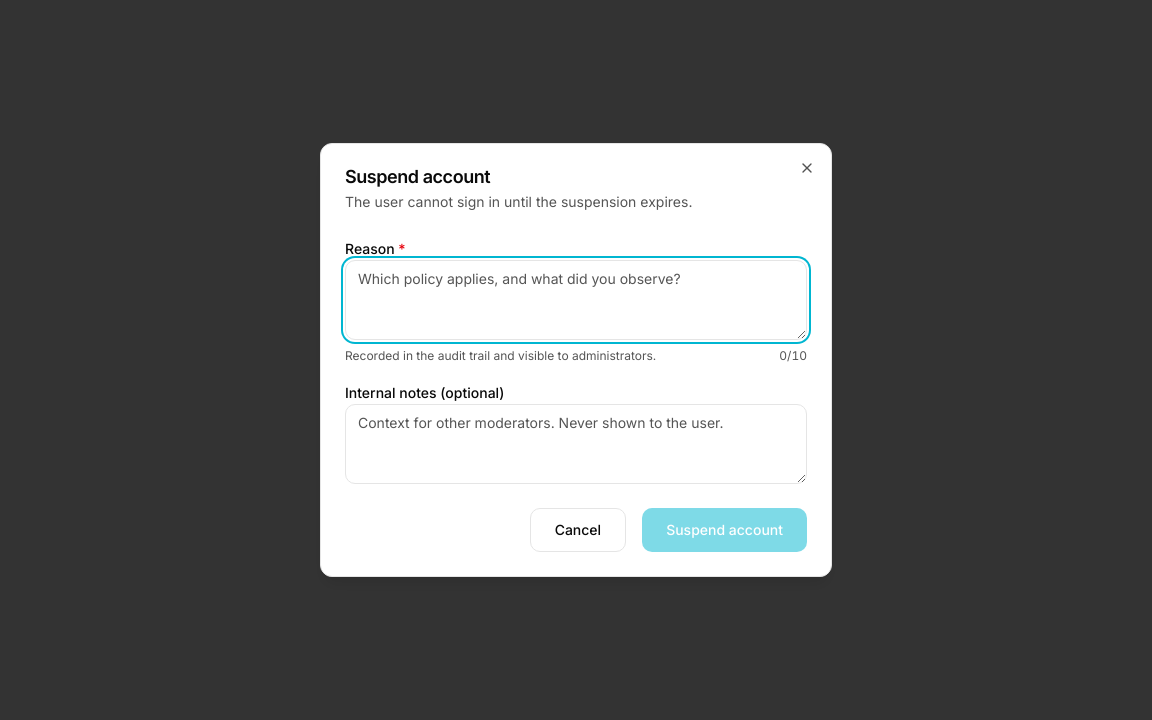
Test: ModerationActionDialog › raises an alert when a too-short reason loses focus
Type "no" into the text box labelled "Reason *". click: point(576, 300)
box: left=345, top=260, right=807, bottom=340
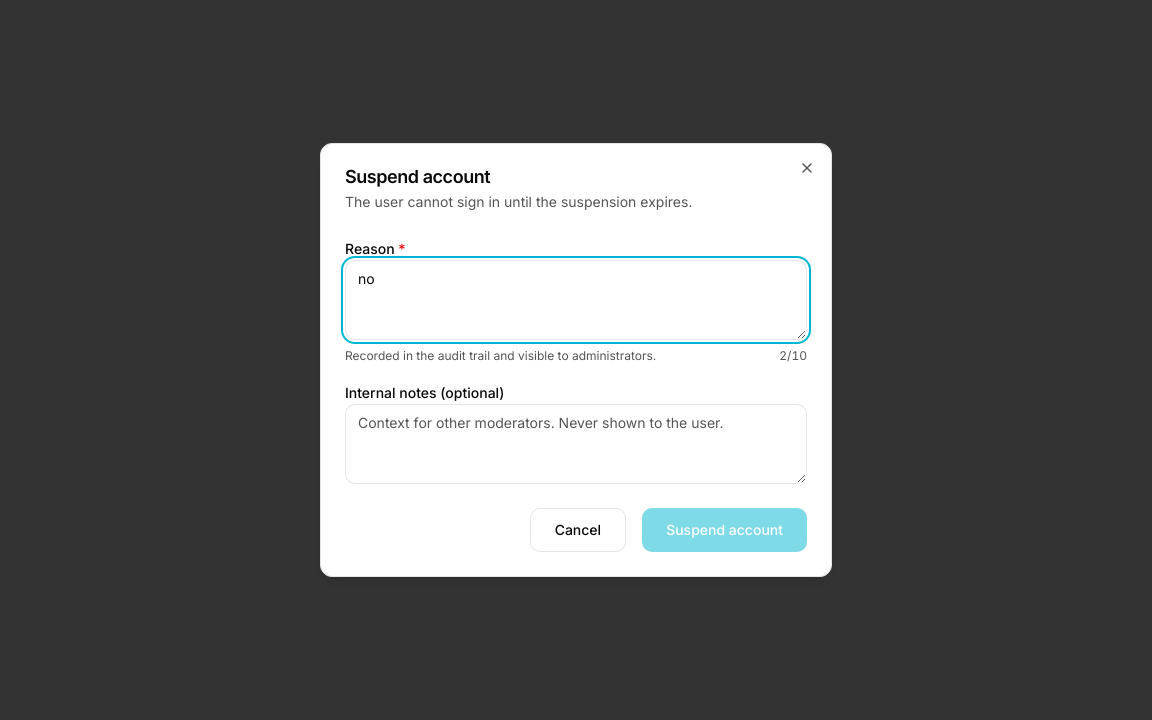
Press Tab
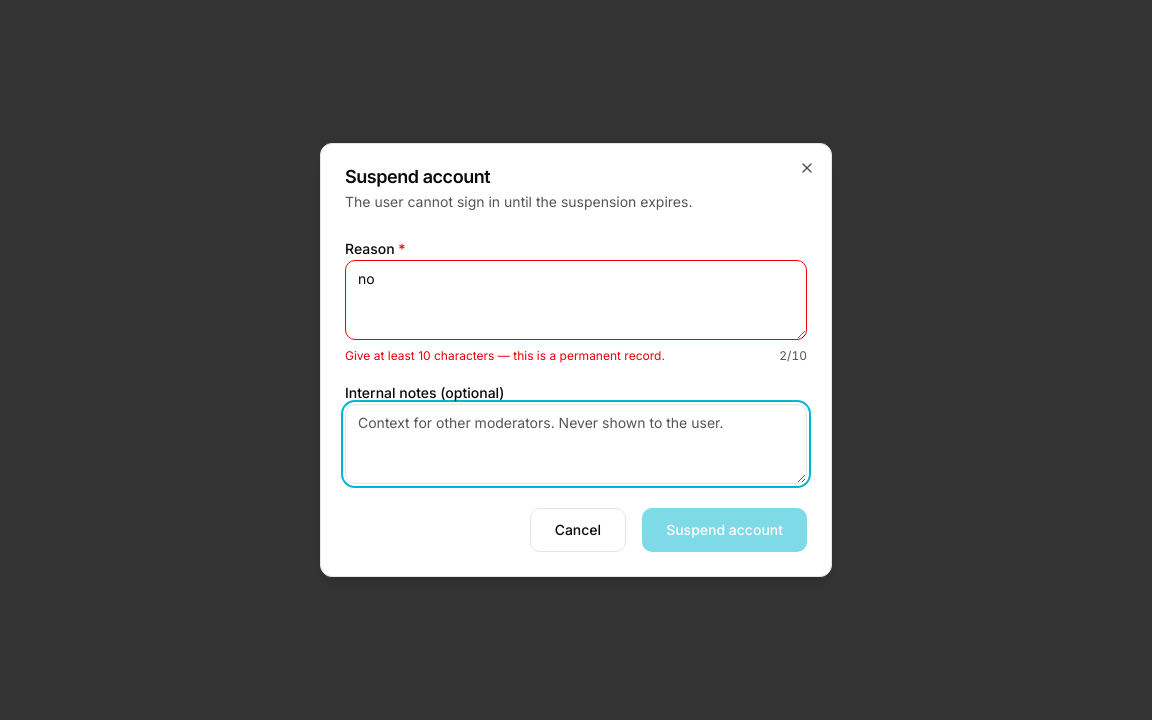
Check: the message shows "at least 10 characters", box left=345, top=348, right=665, bottom=363
